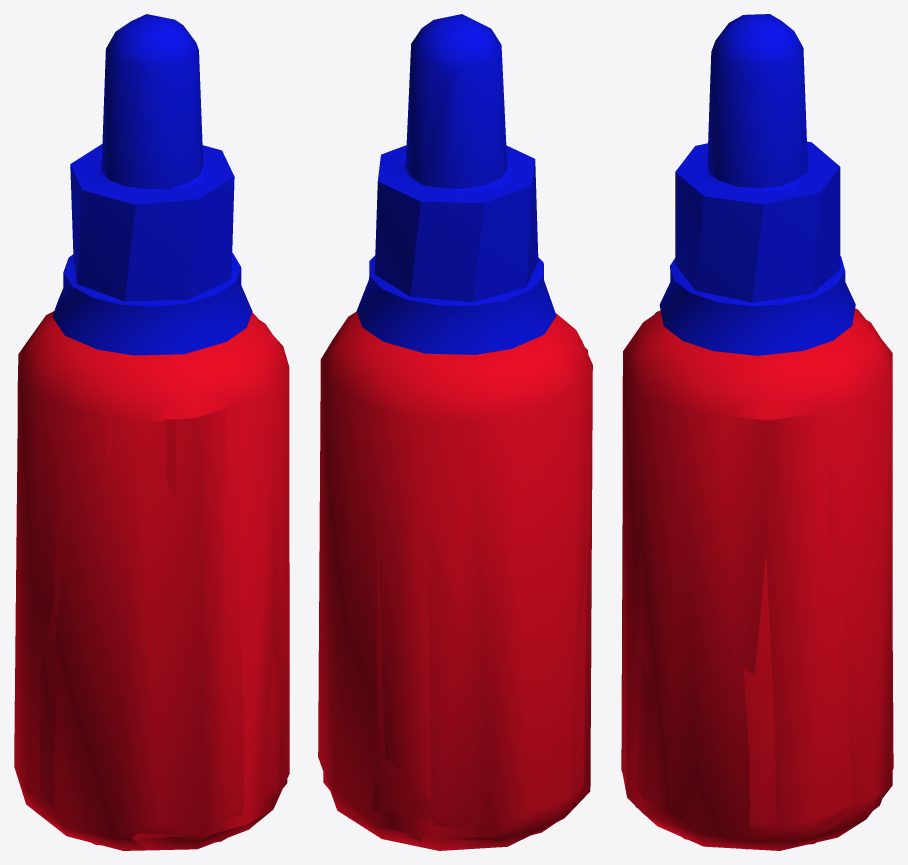
File: SM_BlessedOil_mesh_lod2.fbx
The picture shows the model from 3 angles, left to right: view 1: azimuth 30°, elevation 25°; view 2: azimuth 150°, elevation 25°; view 3: azimuth 270°, elevation 25°; orthographic projection.
Parts seen in each view (by area): view 1: lowbot.lod2, lowtop.lod2; view 2: lowbot.lod2, lowtop.lod2; view 3: lowbot.lod2, lowtop.lod2.
Boxes of the visible parts, left/top/right/bottom form: lowbot.lod2: left=14, top=311, right=289, bottom=850; lowtop.lod2: left=52, top=14, right=252, bottom=355; lowbot.lod2: left=318, top=311, right=592, bottom=850; lowtop.lod2: left=356, top=14, right=556, bottom=354; lowbot.lod2: left=621, top=308, right=893, bottom=850; lowtop.lod2: left=659, top=14, right=855, bottom=355.
Size of the model in its own units: 11.54 by 36.44 by 11.38.
